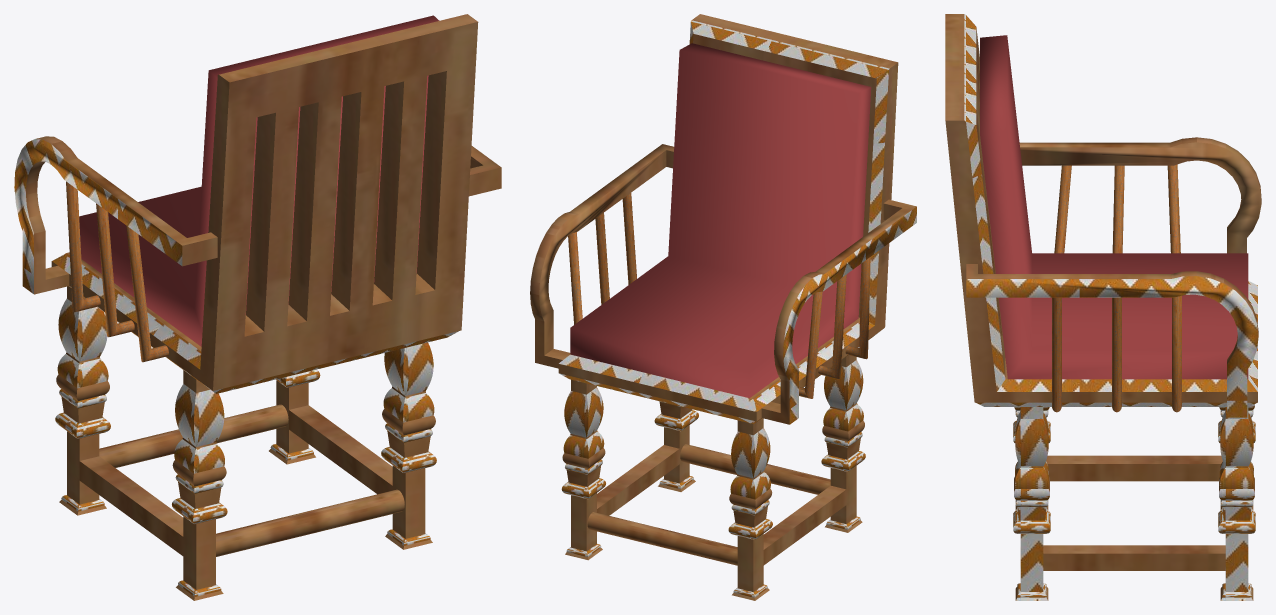
3 views of the same model, side by side, from view 1: azimuth 30°, elevation 25°; view 2: azimuth 150°, elevation 25°; view 3: azimuth 270°, elevation 25° (orthographic). The views are drawn at different scales.
Parts seen in each view (by area): view 1: mesh13_mesh13-geometry, mesh7_mesh7-geometry, mesh1_mesh1-geometry, mesh10_mesh10-geometry, mesh4_mesh4-geometry; view 2: mesh13_mesh13-geometry, mesh4_mesh4-geometry, mesh1_mesh1-geometry, mesh7_mesh7-geometry, mesh10_mesh10-geometry; view 3: mesh13_mesh13-geometry, mesh7_mesh7-geometry, mesh4_mesh4-geometry, mesh1_mesh1-geometry.
Boxes of the visible parts, left/top/right/bottom form: mesh13_mesh13-geometry: left=14, top=14, right=501, bottom=393; mesh7_mesh7-geometry: left=216, top=342, right=436, bottom=556; mesh1_mesh1-geometry: left=79, top=370, right=227, bottom=600; mesh10_mesh10-geometry: left=55, top=286, right=110, bottom=515; mesh4_mesh4-geometry: left=99, top=369, right=320, bottom=467; mesh13_mesh13-geometry: left=530, top=14, right=916, bottom=424; mesh4_mesh4-geometry: left=561, top=379, right=737, bottom=565; mesh1_mesh1-geometry: left=763, top=355, right=865, bottom=565; mesh7_mesh7-geometry: left=597, top=401, right=830, bottom=515; mesh10_mesh10-geometry: left=728, top=418, right=772, bottom=600; mesh13_mesh13-geometry: left=945, top=14, right=1261, bottom=417; mesh7_mesh7-geometry: left=1013, top=407, right=1225, bottom=600; mesh4_mesh4-geometry: left=1218, top=407, right=1255, bottom=600; mesh1_mesh1-geometry: left=1013, top=407, right=1222, bottom=510.
Size of the model in its own units: 0.4637 by 0.7618 by 0.4523.
